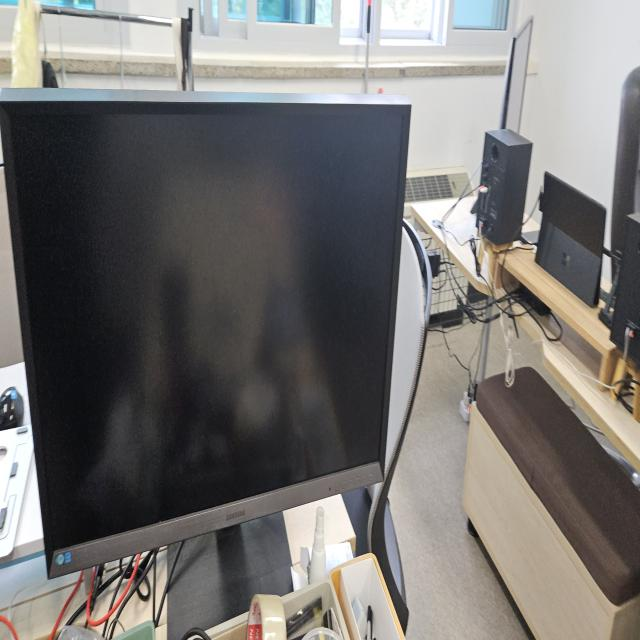Monitor: (1, 84, 412, 581)
